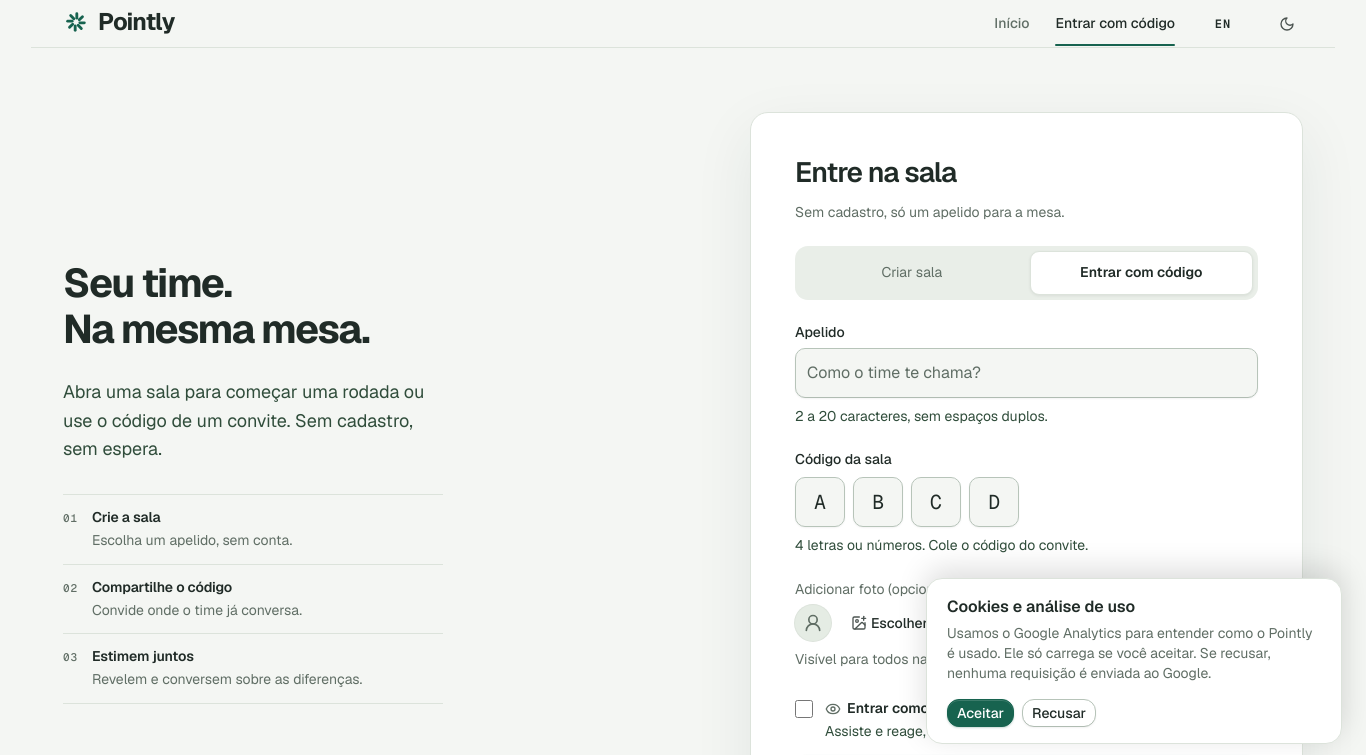
Test: App com analytics e consentimento › Aceitar persiste a escolha, carrega o gtag e envia o page_view atual
Click the button with test id "analytics-consent-accept" at (981, 713), box x1=947 y1=699 x2=1014 y2=727
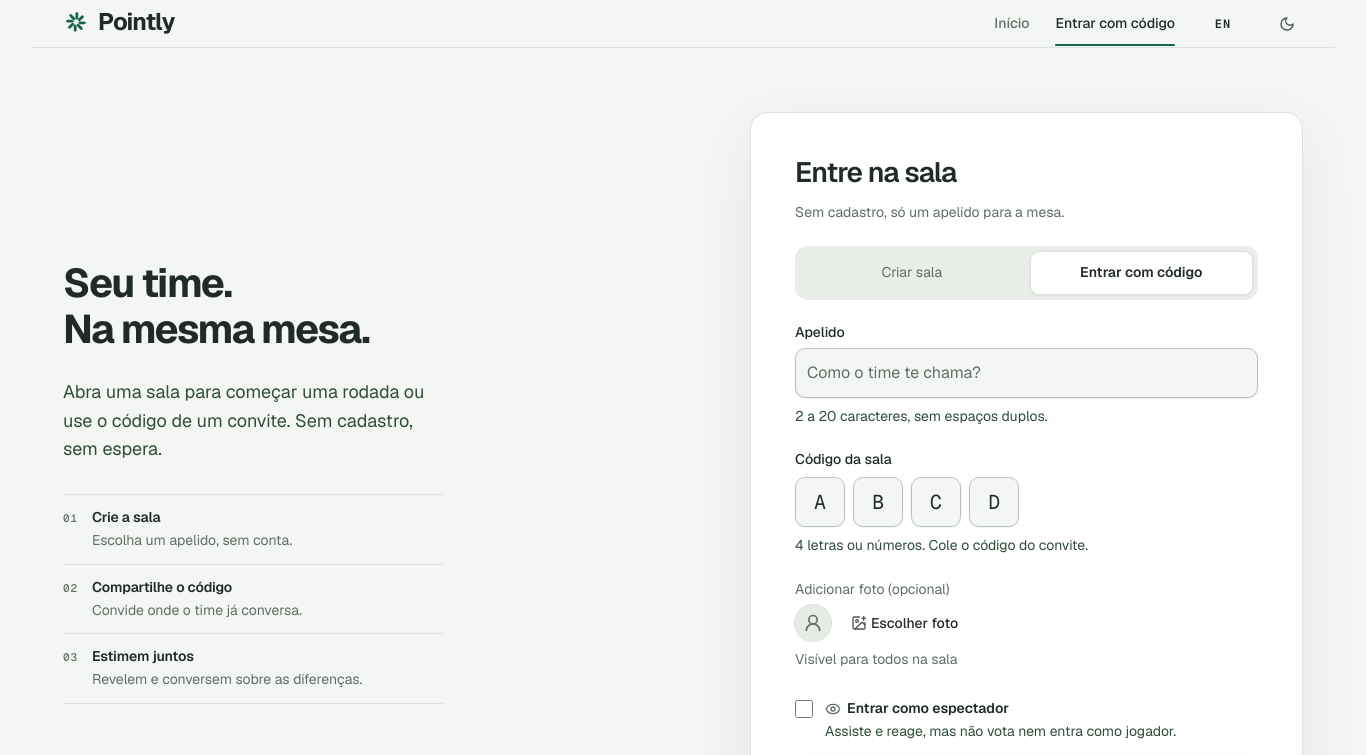
Check: the dialog with test id "analytics-consent-banner" is gone
